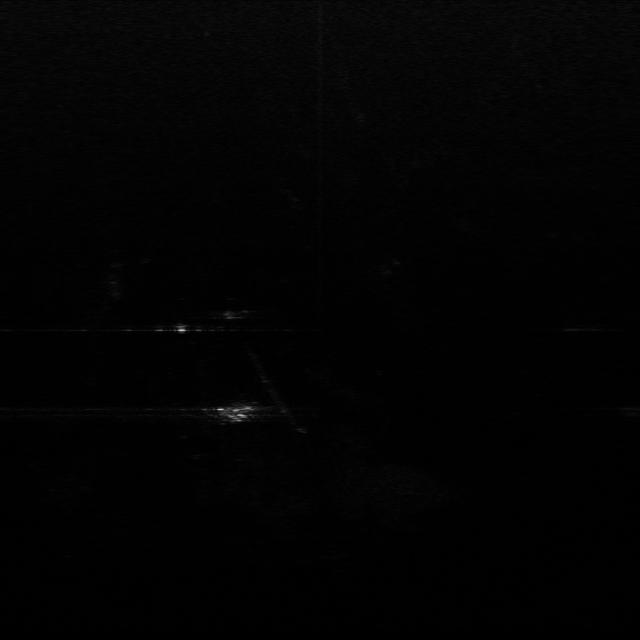rov: (213, 402, 258, 426)
